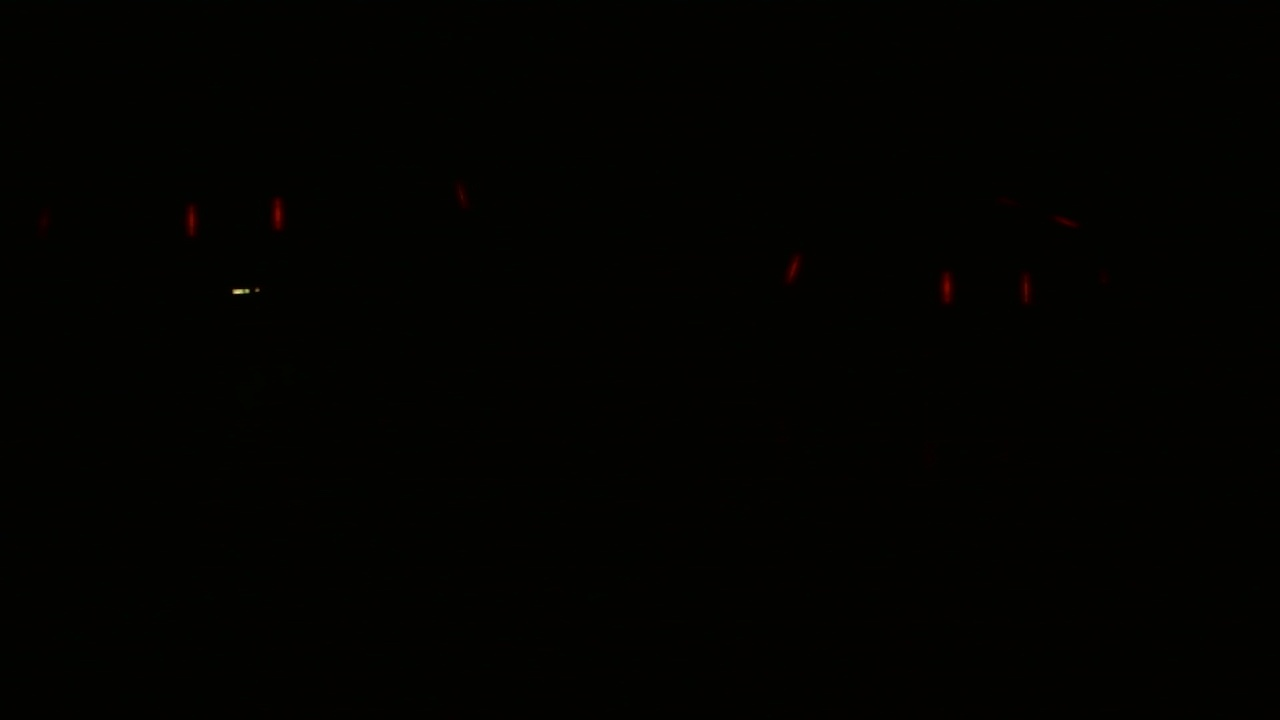pair1: (938, 264, 1037, 310), (185, 197, 288, 239)
